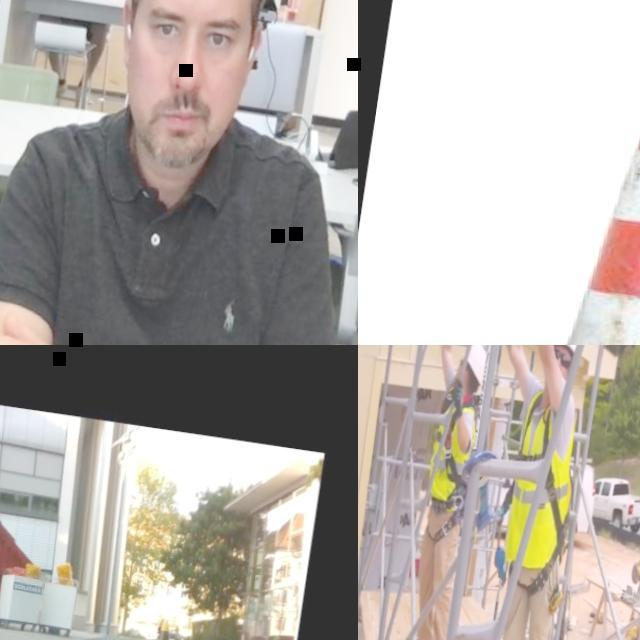helmet: (459, 345, 488, 383), (551, 345, 580, 351)
vest: (504, 386, 583, 572), (426, 386, 482, 511)
